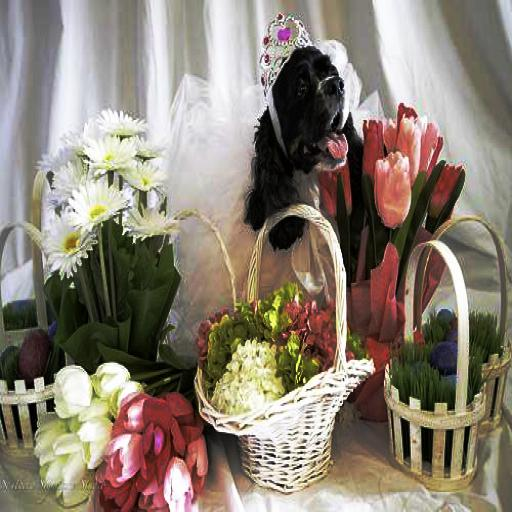tulip: (372, 154, 412, 228), (51, 366, 94, 414)
